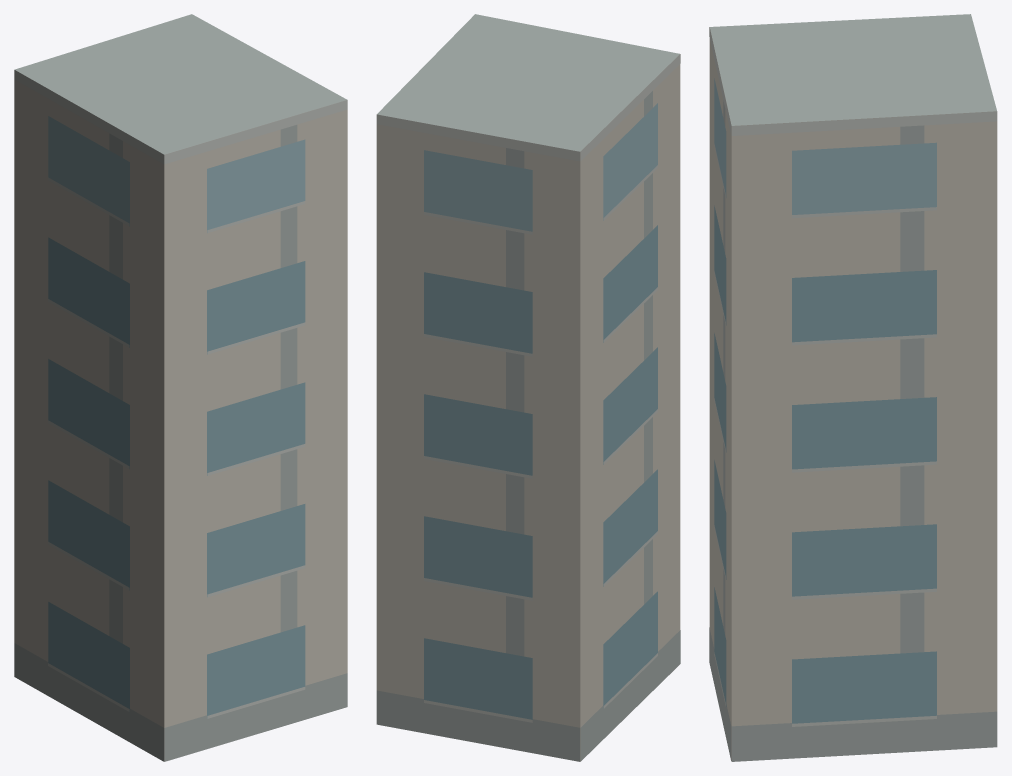
File: survey-upis-32929968.glb
3 renders of one model, left to right at view 1: azimuth 30°, elevation 25°; view 2: azimuth 150°, elevation 25°; view 3: azimuth 270°, elevation 25°, orthographic. The views are drawn at different scales.
Parts seen in each view (by area): view 1: survey-upis-32929968.tmp; view 2: survey-upis-32929968.tmp; view 3: survey-upis-32929968.tmp.
Part boxes in pixels (<box>): survey-upis-32929968.tmp: <box>14,14,347,761</box>; survey-upis-32929968.tmp: <box>376,14,680,761</box>; survey-upis-32929968.tmp: <box>709,14,997,761</box>.
Size of the model in its own units: 5.77 by 15.25 by 6.26.
